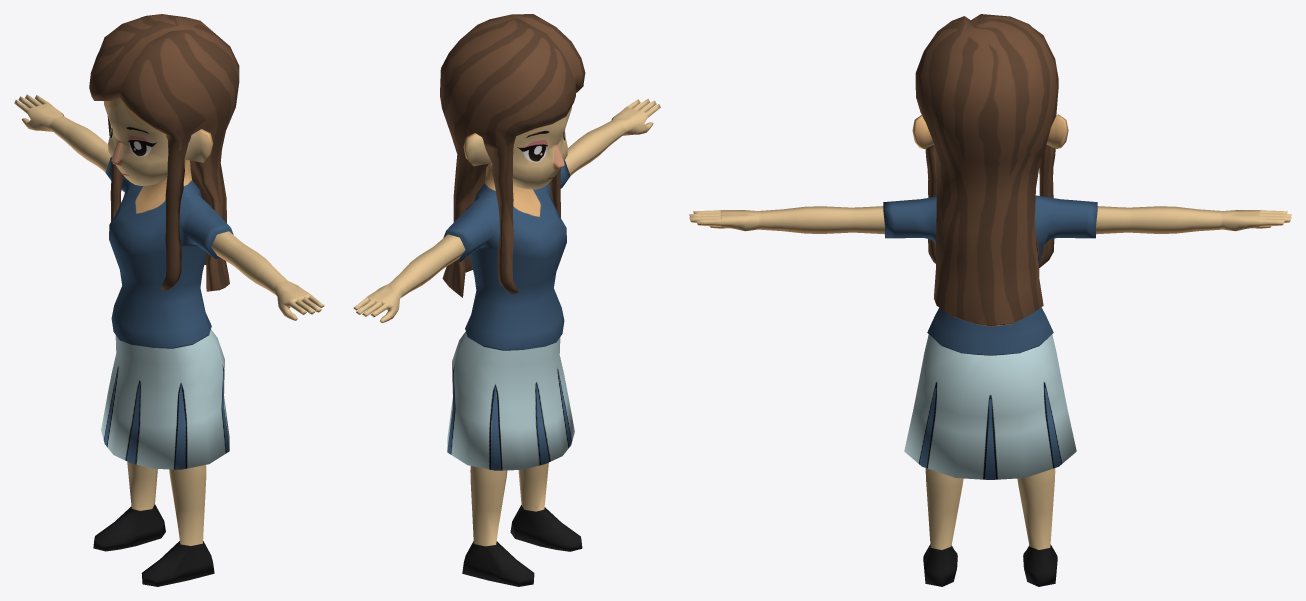
Rendered from girl_3.fbx.
3 renders of one model, left to right at view 1: azimuth 30°, elevation 25°; view 2: azimuth 150°, elevation 25°; view 3: azimuth 270°, elevation 25°, orthographic. The views are drawn at different scales.
Parts seen in each view (by area): view 1: girl_3; view 2: girl_3; view 3: girl_3.
Part boxes in pixels (x1,y1,x2,y2): girl_3: [14, 14, 324, 586]; girl_3: [353, 14, 660, 586]; girl_3: [689, 14, 1291, 586].
Size of the model in its own units: 34.45 by 137 by 136.
1 material, 1 textured.
